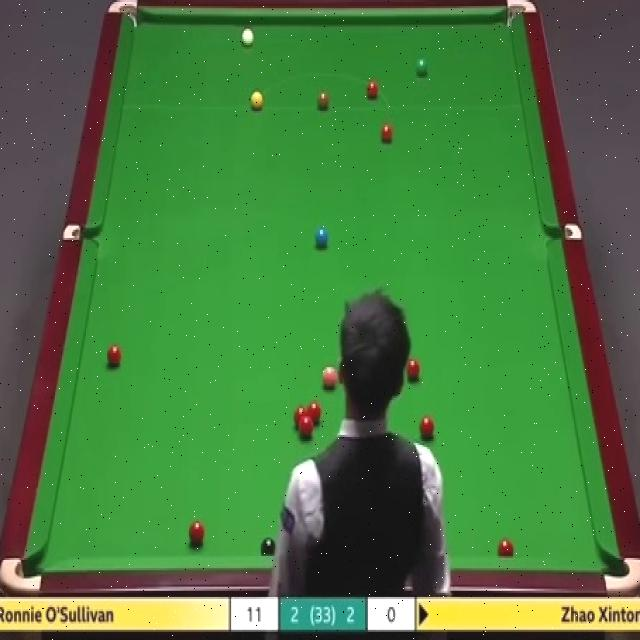black-ball: (260, 535, 278, 557)
blue-ball: (314, 228, 330, 248)
brown-ball: (317, 88, 329, 109)
green-ball: (413, 56, 428, 78)
pink-ball: (322, 366, 338, 392)
red-ball: (188, 518, 204, 547), (405, 356, 422, 383), (106, 345, 122, 372), (419, 416, 433, 443), (293, 406, 308, 431), (497, 536, 514, 557), (364, 78, 380, 100), (308, 401, 321, 426), (300, 419, 314, 439), (379, 124, 394, 142)
white-ball: (242, 28, 254, 47)
yellow-ball: (249, 91, 264, 110)
